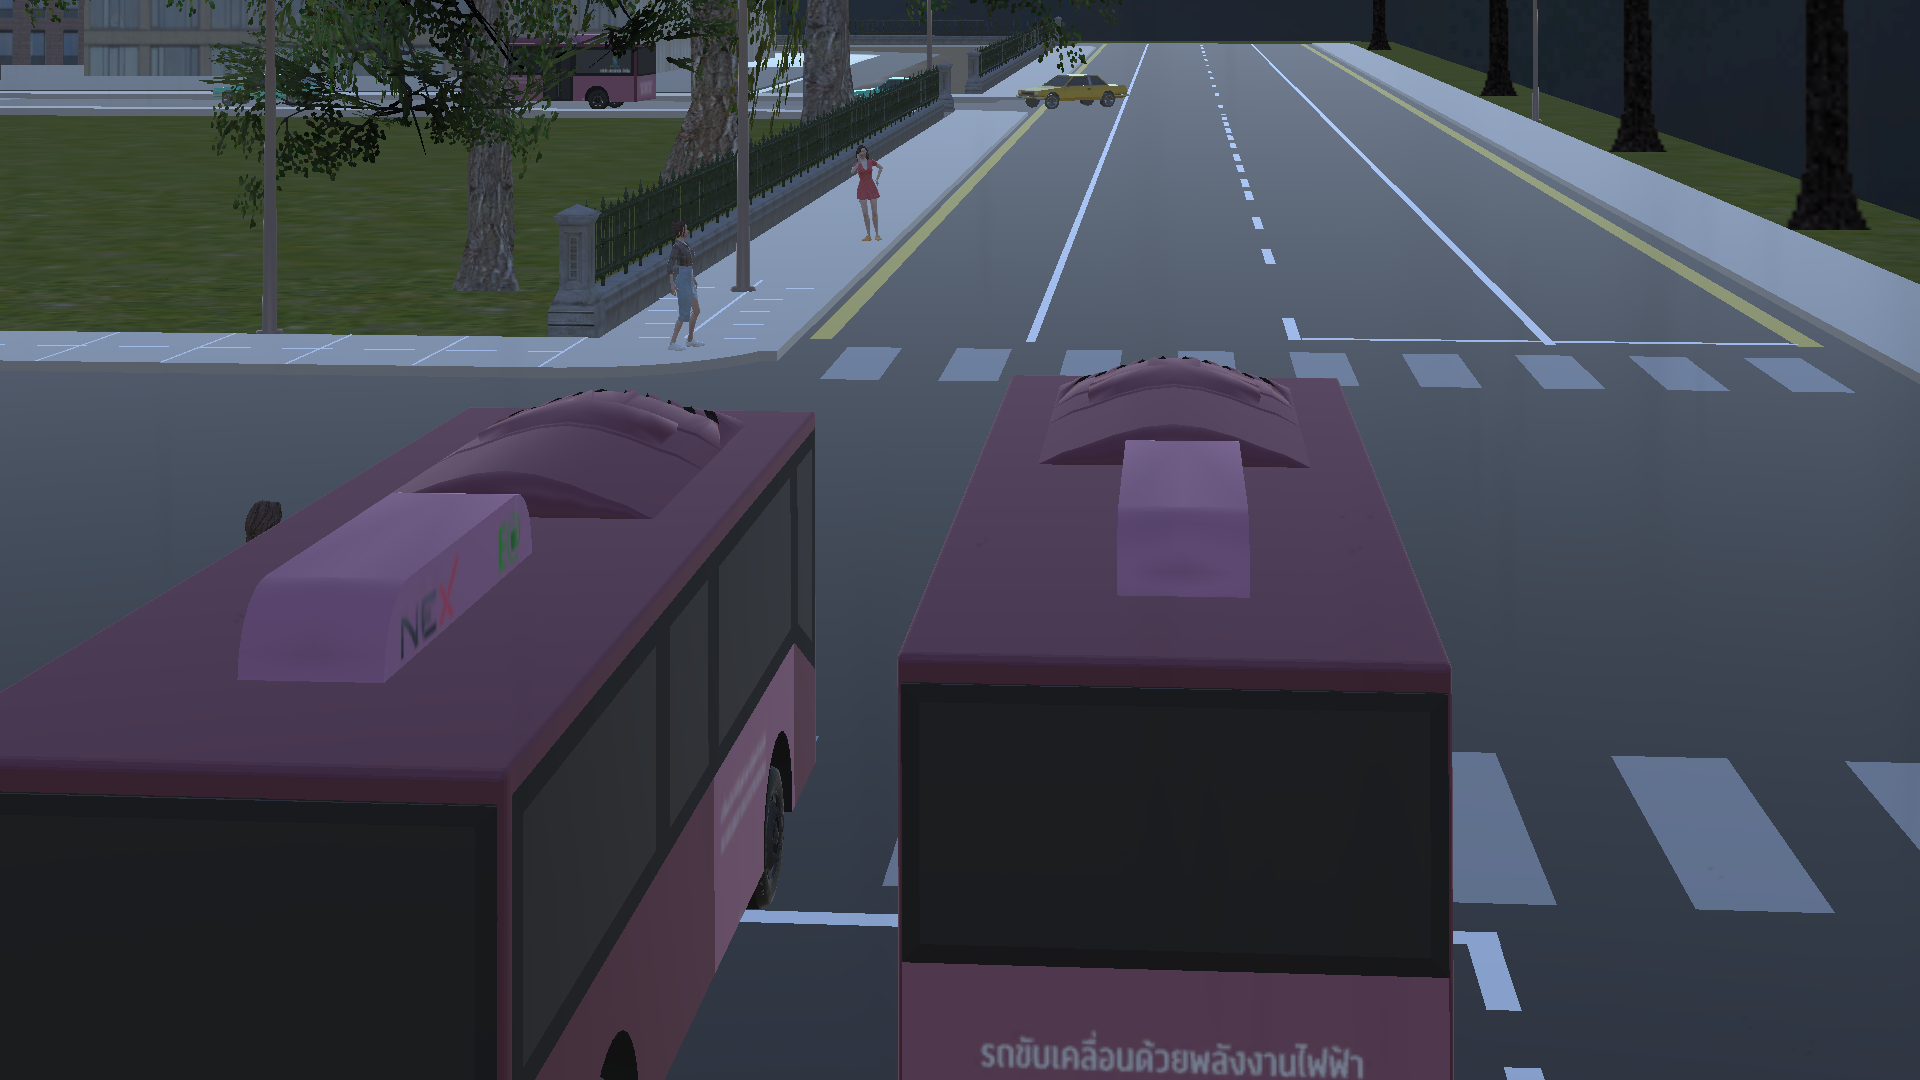pedestrian: (655, 212, 711, 346), (850, 132, 900, 249), (236, 479, 286, 546)
